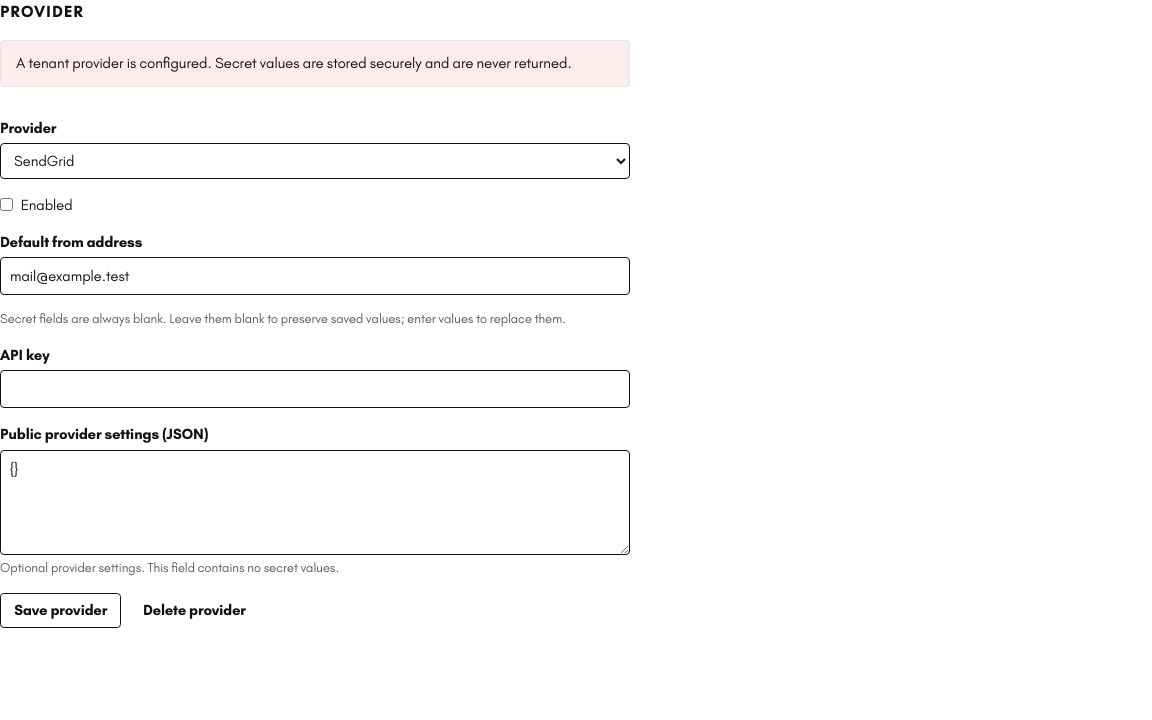
Test: Email provider settings › confirms deletion and returns to server fallback state
This screenshot has width=1152, height=720.
Click the button "Delete provider": (194, 610) [129, 592, 260, 628]
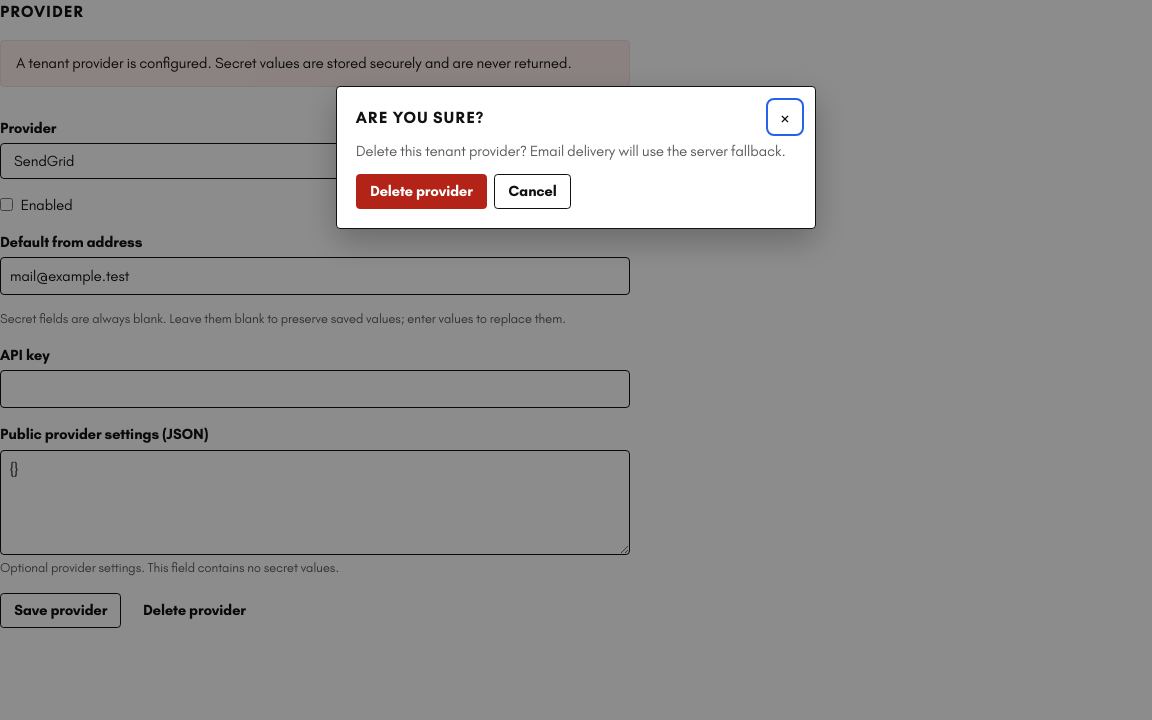
Click the submit button: (421, 192) [356, 174, 487, 209]
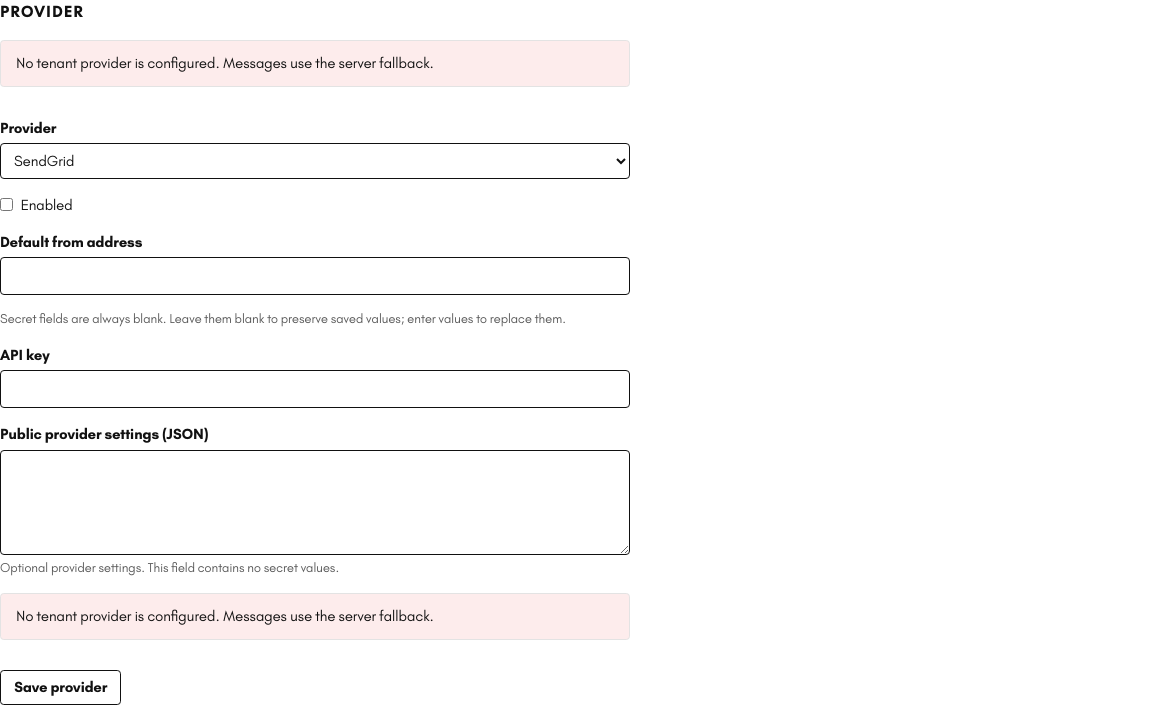
expect the text "No tenant provider is configured" is shown: met, box [16, 54, 434, 72]
